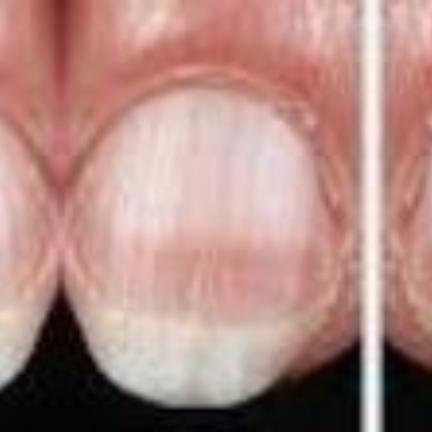Nail: (60, 86, 342, 409), (0, 116, 60, 387), (401, 147, 432, 340)
